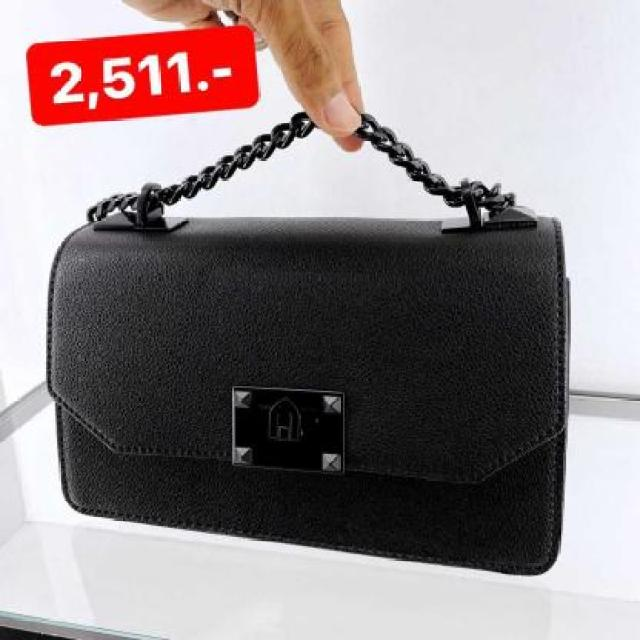Bag: (21, 87, 592, 605)
